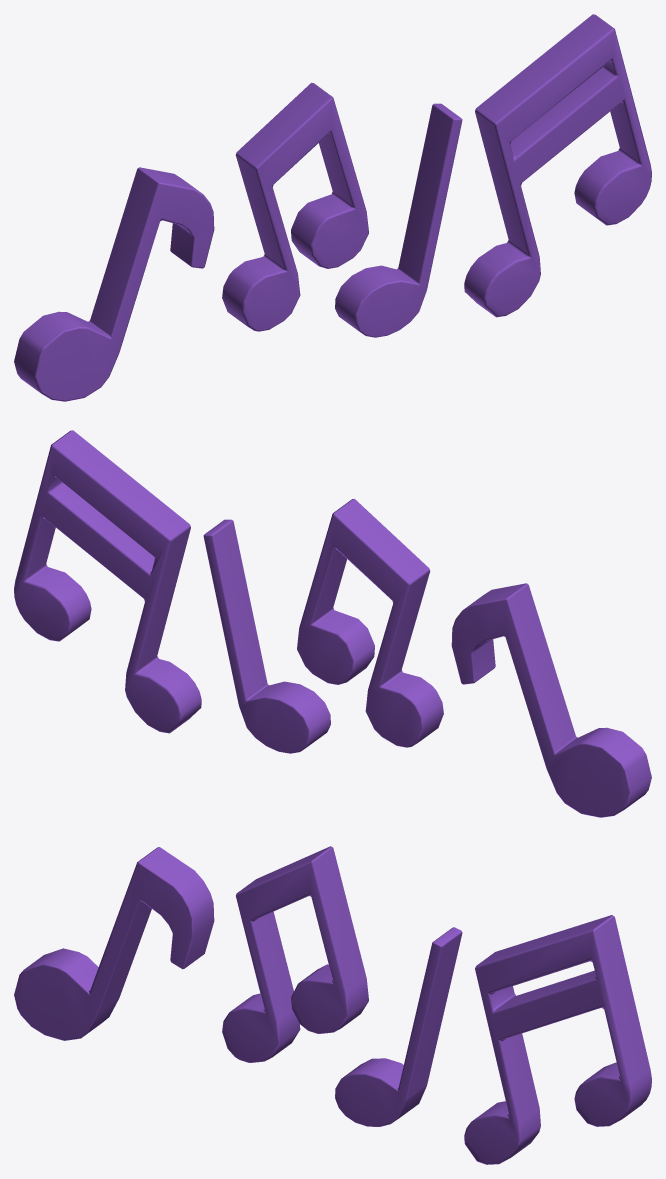
The model's file is Store_13_Notes_1.glb.
3 views of the same model, one above another, from view 1: azimuth 30°, elevation 25°; view 2: azimuth 150°, elevation 25°; view 3: azimuth 330°, elevation 25° (orthographic).
Visible parts, largest first — view 1: Store_13_Notes_1; view 2: Store_13_Notes_1; view 3: Store_13_Notes_1.
Part boxes in pixels (x1=…): Store_13_Notes_1: x1=14, y1=14, x2=651, y2=401; Store_13_Notes_1: x1=14, y1=430, x2=651, y2=817; Store_13_Notes_1: x1=14, y1=846, x2=651, y2=1164.
Bounding box in the file's own units: 2.57 × 1.04 × 0.1563.
Materials: 1 (1 with a texture image).
